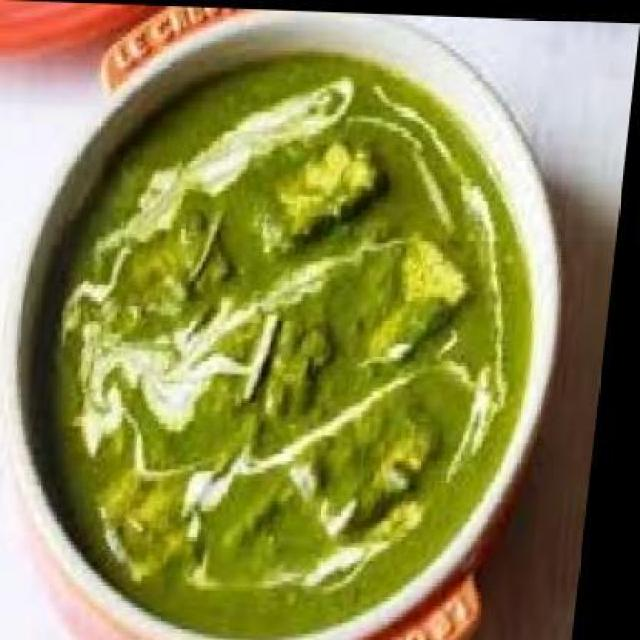palak_paneer: (17, 43, 566, 640)
